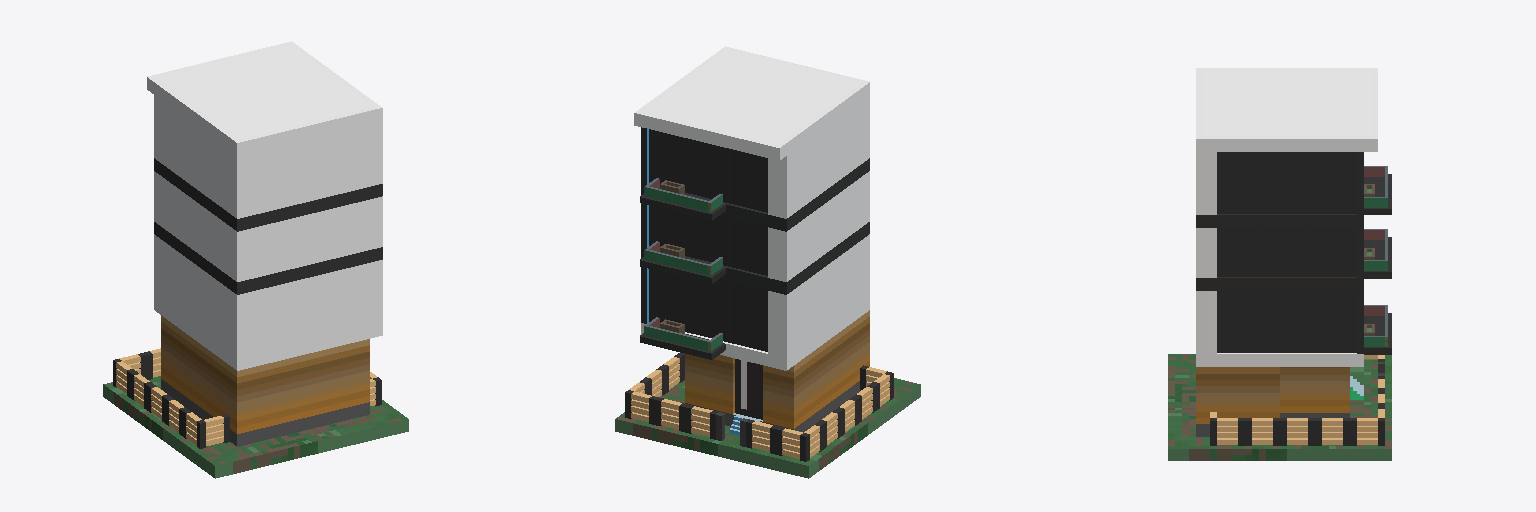
3 views of the same model, side by side, from view 1: azimuth 30°, elevation 25°; view 2: azimuth 150°, elevation 25°; view 3: azimuth 270°, elevation 25° (orthographic).
Visible parts, largest first — view 1: cube; view 2: cube; view 3: cube.
Boxes of the visible parts, box(x1,y1,x2,y2) form: cube: box(103, 41, 408, 478); cube: box(615, 46, 920, 478); cube: box(1168, 68, 1391, 460).
Size of the model in its own units: 1 by 1.56 by 1.
Materials: 4 (1 with a texture image).